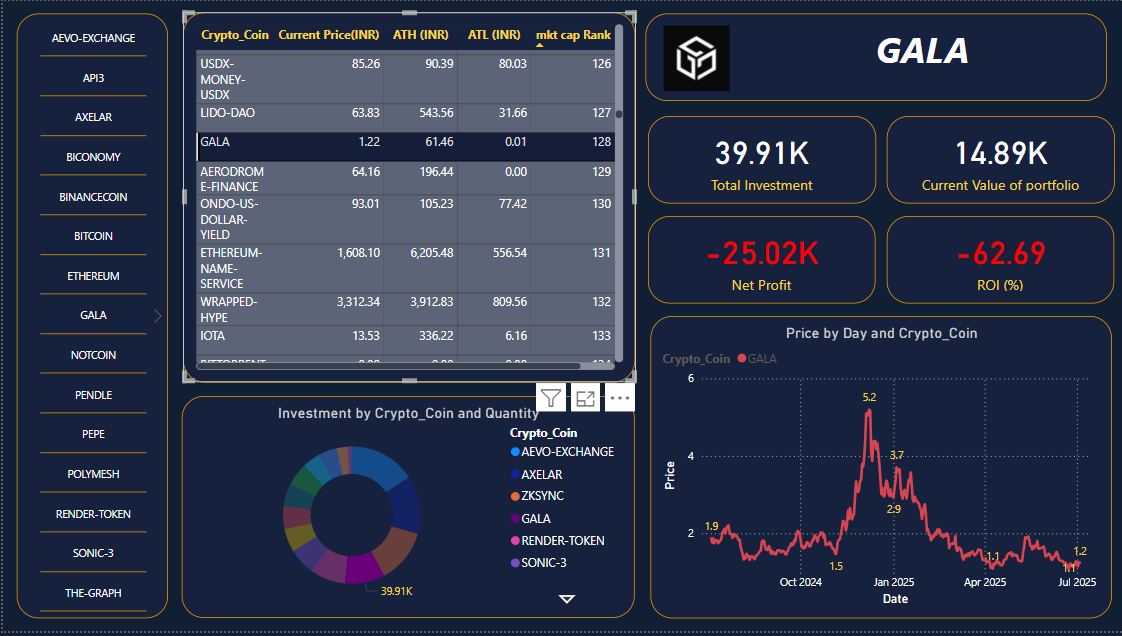

What the dashboard file says about the page in this screenshot:
{"tool":"powerbi","page":{"name":"Overview","canvas":[1280,720],"ordinal":0},"visuals":[{"type":"tableEx","fields":{"Values":["Crypto_coin data.Crypto_Coin","Crypto_coin data.Current Price(INR)","Crypto_coin data.ATH (INR)","Crypto_coin data.ATL (INR)","Crypto_coin data.Market Cap Rank","Crypto_coin data.image"]},"box":[205.7,12.9,517.1,422.9],"z":0},{"type":"lineChart","title":" Price by Day and Crypto_Coin","fields":{"Category":["Historical coin data.Date"],"Y":["Avg(Historical coin data.Price)"],"Series":["Historical coin data.Crypto_Coin"]},"box":[737.4,359.5,527,346.1],"z":1000},{"type":"donutChart","title":"Investment by Crypto_Coin and Quantity","fields":{"Category":["Portfolio.Crypto_Coin"],"Y":["Avg(Portfolio.Initial Investment)"],"Series":["Portfolio.Quantity"]},"box":[204.5,451.5,517.3,253.9],"z":2000},{"type":"card","fields":{"Values":["Portfolio.Initial Investment of portfoilio"]},"box":[736.9,131,260.7,100],"z":3000},{"type":"card","fields":{"Values":["Portfolio.Current Value of portfolio"]},"box":[1010,131,260.7,100.2],"z":4000},{"type":"card","fields":{"Values":["Portfolio.ROI (%)"]},"box":[1010,245,260,100],"z":5000},{"type":"card","fields":{"Values":["Portfolio.Net Profit"]},"box":[737.1,245,260,100],"z":6000},{"type":"slicer","fields":{"Values":["Portfolio.Crypto_Coin"]},"box":[15.7,14.3,172.9,691.4],"z":7000},{"type":"multiRowCard","fields":{"Values":["Crypto_coin data.image1","Portfolio.Coin Name"]},"box":[734.3,14.3,527.1,100],"z":8000},{"type":"actionButton","box":[838.6,31.4,148.6,65.7],"z":9000}]}

Visuals, with their boxes on the page's 1280x720 design canvas (x1, y1, x2, y2). These are canvas units, not pixel positions in the 1122x636 screenshot, which may show the page scaled, cropped or inside an application window:
tableEx - Crypto_coin data.Crypto_Coin x Crypto_coin data.Current Price(INR): 206, 13, 723, 436
" Price by Day and Crypto_Coin" lineChart: 737, 360, 1264, 706
"Investment by Crypto_Coin and Quantity" donutChart: 204, 452, 722, 705
card - Portfolio.Initial Investment of portfoilio: 737, 131, 998, 231
card - Portfolio.Current Value of portfolio: 1010, 131, 1271, 231
card - Portfolio.ROI (%): 1010, 245, 1270, 345
card - Portfolio.Net Profit: 737, 245, 997, 345
slicer - Portfolio.Crypto_Coin: 16, 14, 189, 706
multiRowCard - Crypto_coin data.image1 x Portfolio.Coin Name: 734, 14, 1261, 114
actionButton: 839, 31, 987, 97
